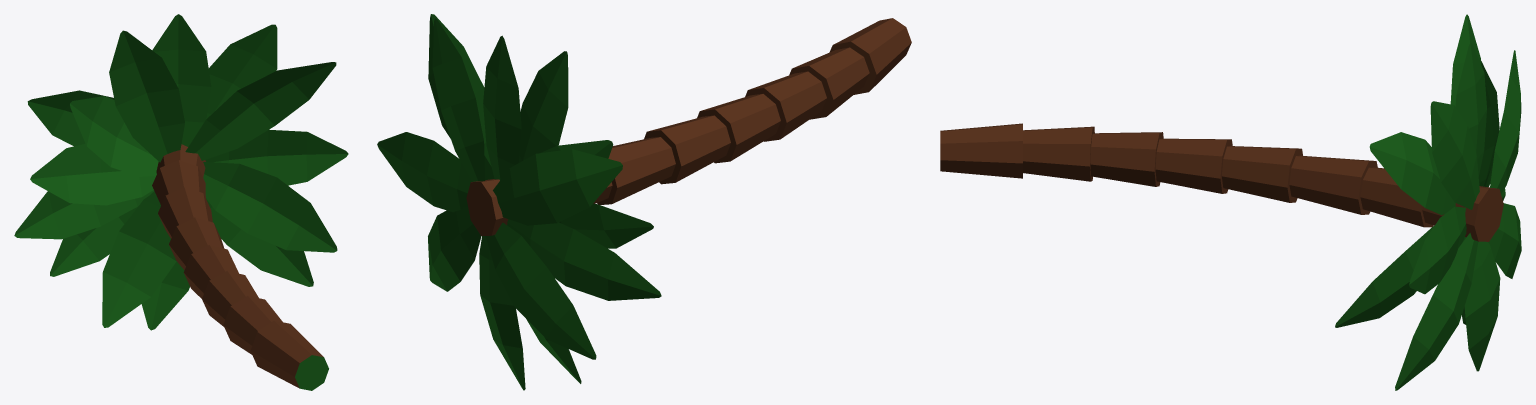
Rendered from Palmera2.fbx.
The picture shows the model from 3 angles, left to right: view 1: azimuth 30°, elevation 25°; view 2: azimuth 150°, elevation 25°; view 3: azimuth 270°, elevation 25°; orthographic projection. The views are drawn at different scales.
Parts seen in each view (by area): view 1: Palmera2G; view 2: Palmera2G; view 3: Palmera2G.
Boxes of the visible parts, x1,y1,x2,y2 form: Palmera2G: [14, 14, 348, 390]; Palmera2G: [377, 14, 911, 390]; Palmera2G: [940, 14, 1521, 390].
Size of the model in its own units: 539 by 545 by 842.
